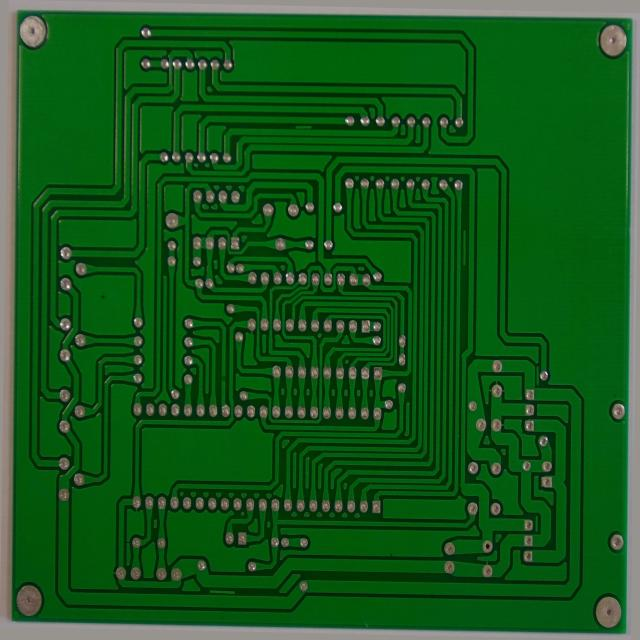spurious_copper: (461, 222, 470, 264), (209, 595, 240, 606), (538, 359, 546, 384), (289, 118, 311, 127), (537, 512, 546, 534)
